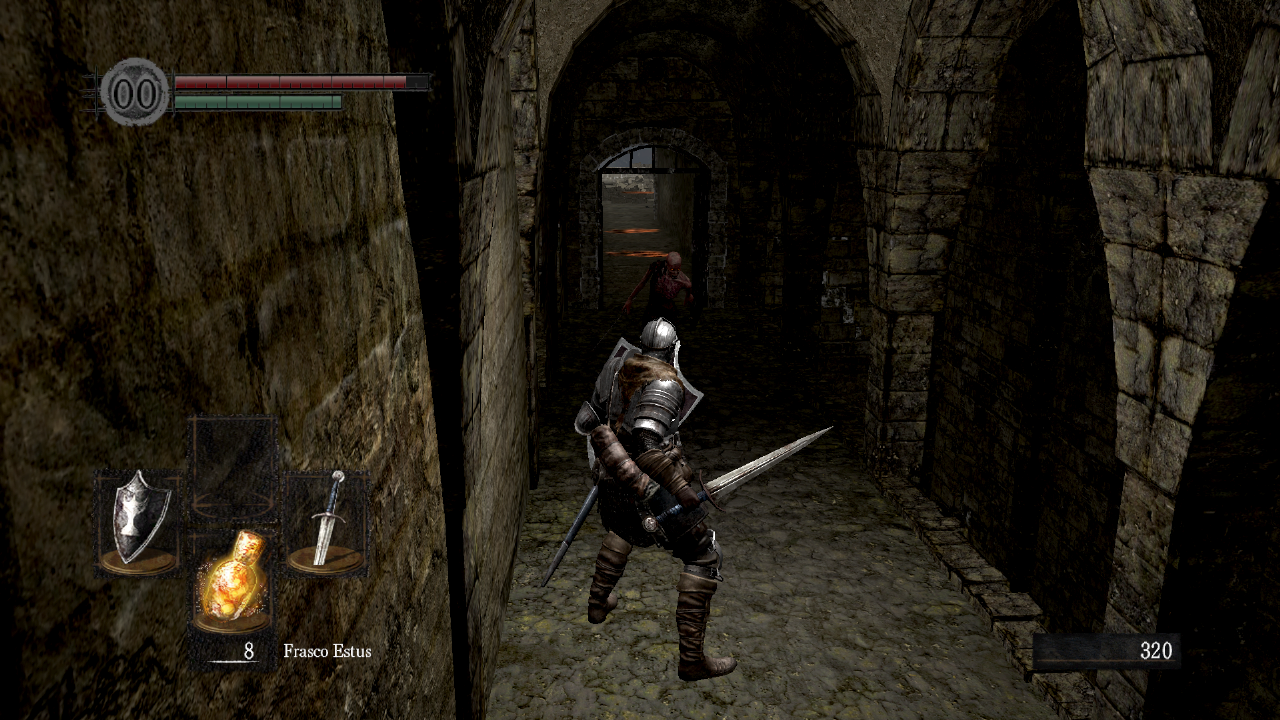hollow: (591, 251, 703, 364)
player: (542, 317, 836, 681)
